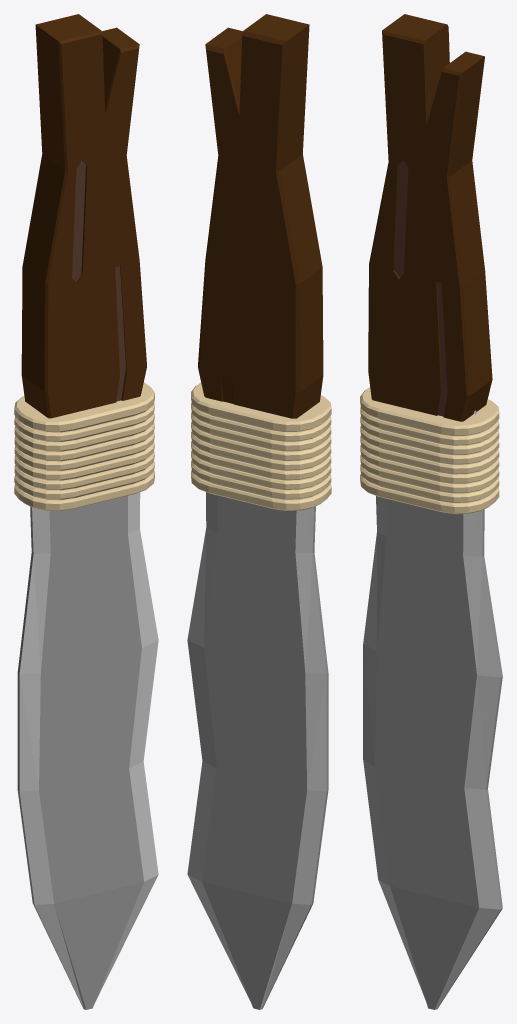
The model's file is Knife2.fbx.
3 views of the same model, side by side, from view 1: azimuth 30°, elevation 25°; view 2: azimuth 150°, elevation 25°; view 3: azimuth 330°, elevation 25° (orthographic).
Visible parts, largest first — view 1: Куб.002; view 2: Куб.002; view 3: Куб.002.
Part boxes in pixels (<box>): Куб.002: <box>14,14,158,1009</box>; Куб.002: <box>187,14,331,1009</box>; Куб.002: <box>360,14,502,1009</box>.
Size of the model in its own units: 25.64 by 173 by 13.04.
